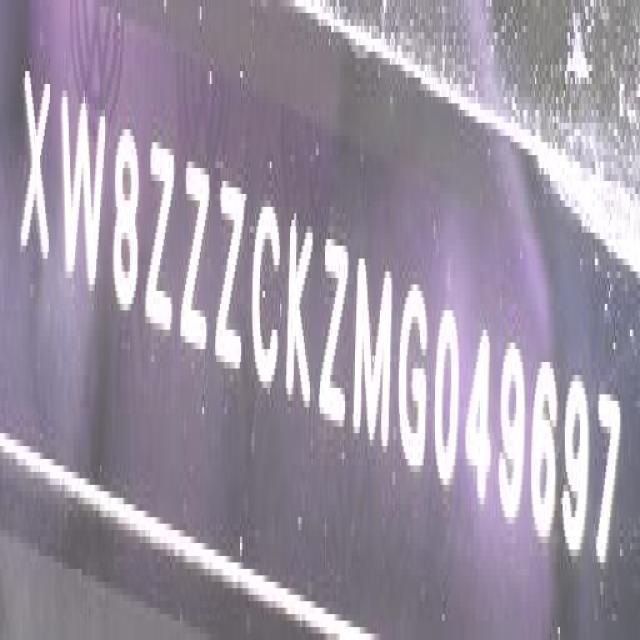0: (432, 294, 461, 494)
4: (465, 314, 494, 516)
6: (529, 351, 559, 546)
7: (596, 381, 624, 572)
8: (114, 119, 141, 324)
9: (498, 335, 528, 532), (562, 373, 588, 566)
C: (252, 192, 283, 401)
G: (397, 272, 430, 478)
K: (287, 206, 317, 422)
M: (356, 248, 394, 462)
W: (57, 76, 105, 301)
X: (20, 59, 53, 280)
Z: (215, 165, 246, 383), (181, 150, 212, 367), (144, 134, 175, 346), (319, 224, 348, 440)
